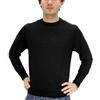abbigliamento_uomo: (10, 17, 93, 98)
